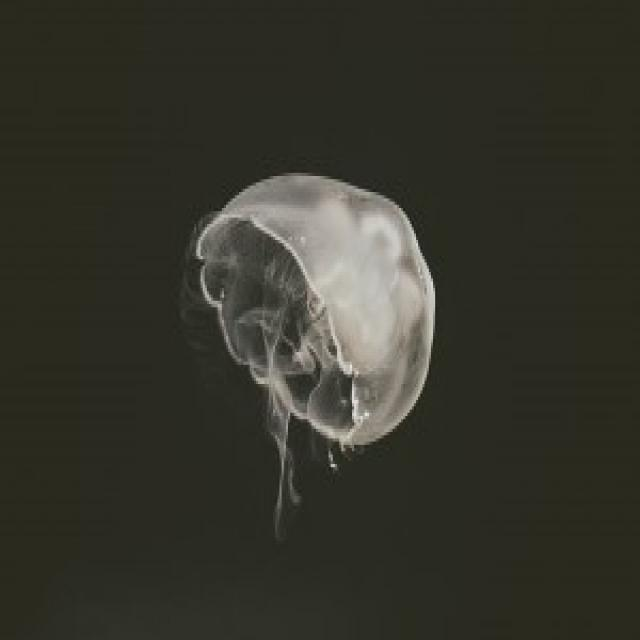Jellyfish: (179, 162, 452, 528)
